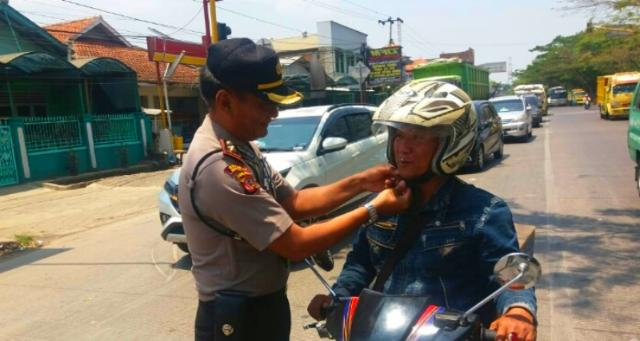helm: (373, 78, 480, 188)
motor: (297, 250, 545, 341)
